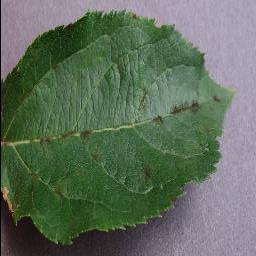apple healthy: (0, 7, 235, 246)
